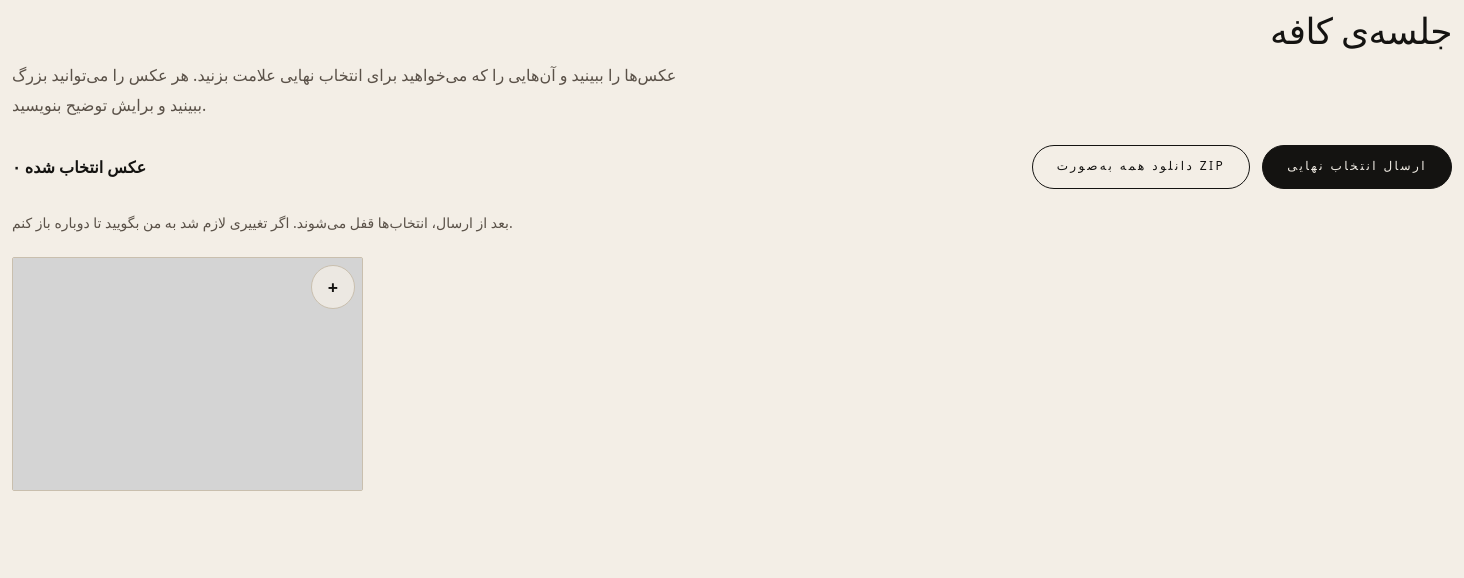
Scenario: choosing › a failed save is undone
Click the button named "انتخاب IMG_1.jpg": click(333, 287) [311,265,355,309]
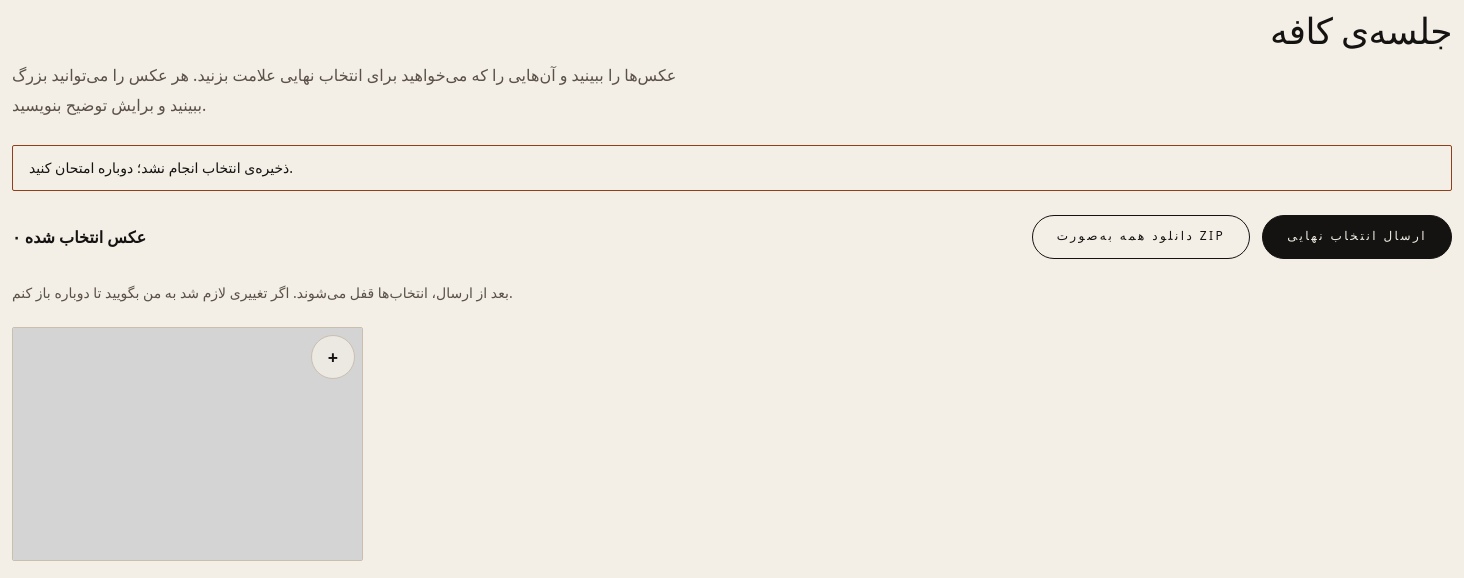
Check: the message reads "ذخیره‌ی انتخاب انجام نشد؛ دوباره امتحان کنید.", box [29,158,293,177]
